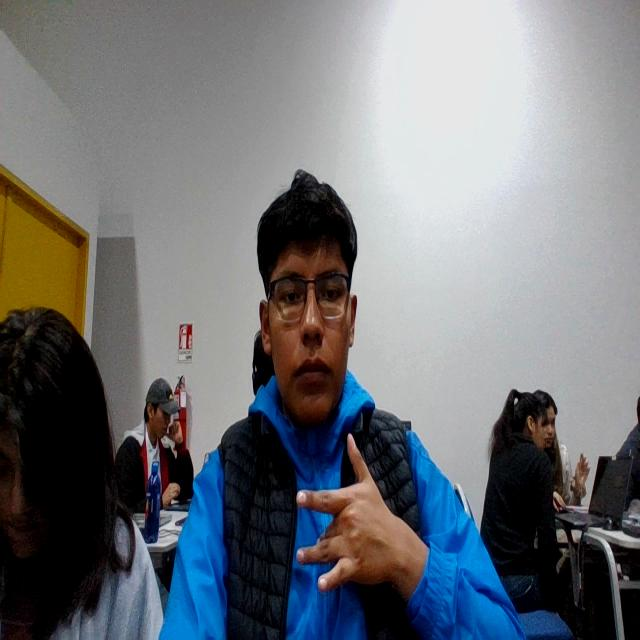feel: (295, 427, 398, 611)
